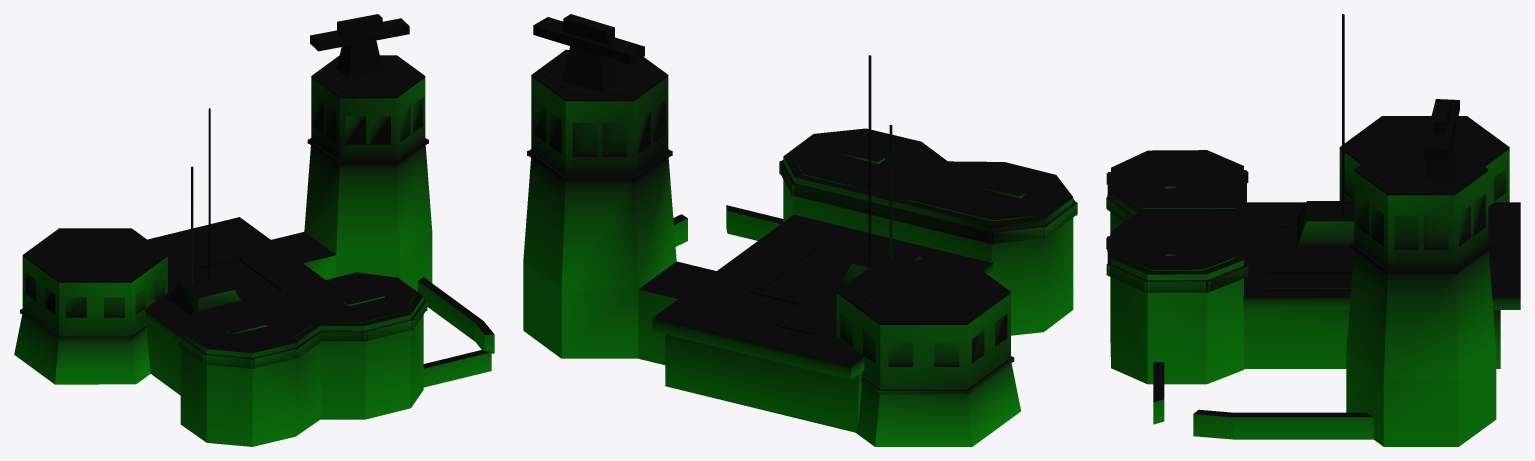
Rendered from s_turretcontrol.glb.
3 renders of one model, left to right at view 1: azimuth 30°, elevation 25°; view 2: azimuth 150°, elevation 25°; view 3: azimuth 270°, elevation 25°, orthographic. The views are drawn at different scales.
Parts seen in each view (by area): view 1: lod0_S_TurretControl, lod0_Radar; view 2: lod0_S_TurretControl, lod0_Radar; view 3: lod0_S_TurretControl, lod0_Radar.
Part boxes in pixels (<box>): lod0_S_TurretControl: <box>14,40,494,446</box>; lod0_Radar: <box>310,14,409,51</box>; lod0_S_TurretControl: <box>523,46,1077,446</box>; lod0_Radar: <box>533,14,644,64</box>; lod0_S_TurretControl: <box>1106,14,1520,446</box>; lod0_Radar: <box>1423,99,1459,158</box>.
Size of the model in its own units: 25.28 by 16.71 by 20.35.
